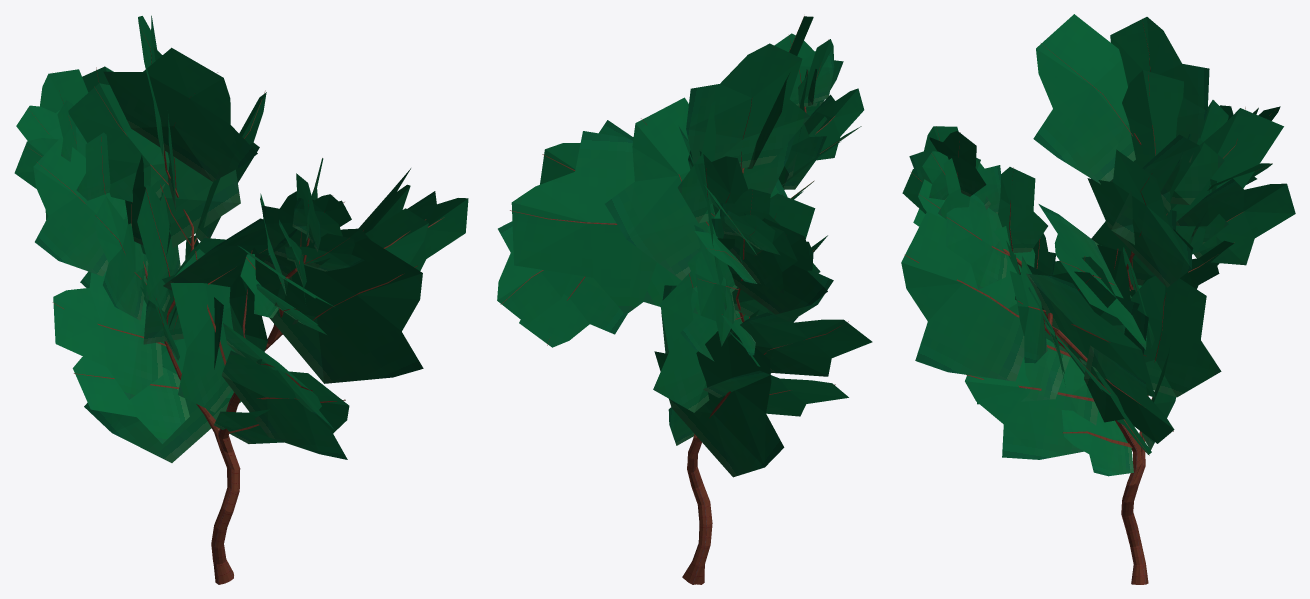
Rendered from Birch_Tree_05.fbx.
The picture shows the model from 3 angles, left to right: view 1: azimuth 30°, elevation 25°; view 2: azimuth 150°, elevation 25°; view 3: azimuth 270°, elevation 25°; orthographic projection. The views are drawn at different scales.
Visible parts, largest first — view 1: SM_Tree_Birch_05.mo; view 2: SM_Tree_Birch_05.mo; view 3: SM_Tree_Birch_05.mo.
Part boxes in pixels (<box>): SM_Tree_Birch_05.mo: <box>14,15,468,584</box>; SM_Tree_Birch_05.mo: <box>497,16,872,584</box>; SM_Tree_Birch_05.mo: <box>901,14,1295,584</box>.
Bounding box in the file's own units: 1146 × 1685 × 1131.
